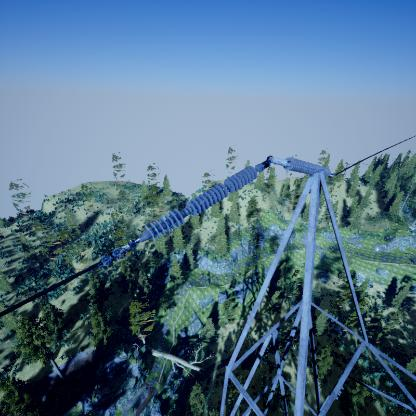insulator: (144, 165, 258, 245), (282, 154, 332, 179)
